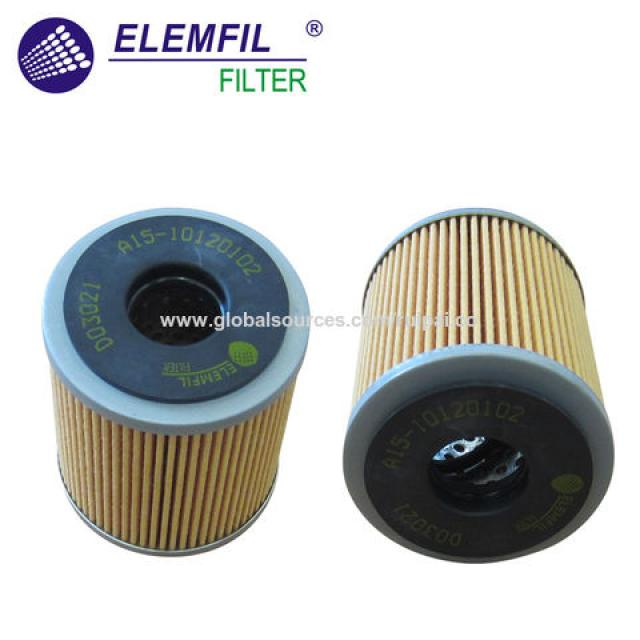oil_filter: (337, 203, 617, 565), (36, 196, 312, 560)
